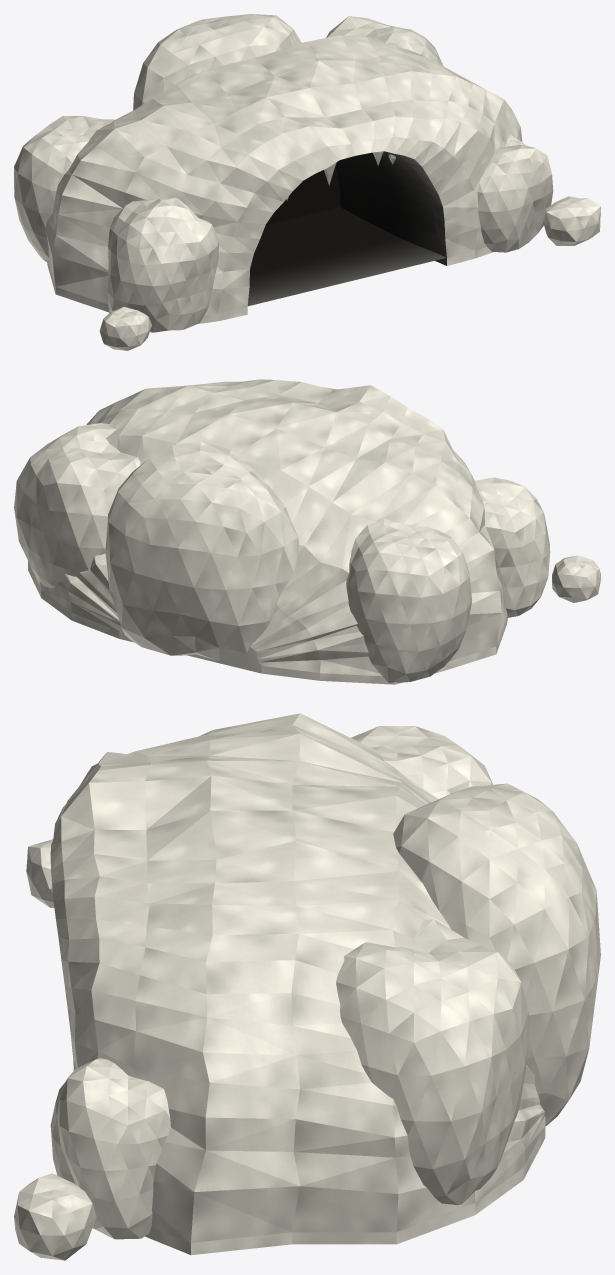
Rendered from limestone_cave.fbx.
The picture shows the model from 3 angles, top to bottom: view 1: azimuth 30°, elevation 25°; view 2: azimuth 150°, elevation 25°; view 3: azimuth 270°, elevation 25°; orthographic projection. The views are drawn at different scales.
Visible parts, largest first — view 1: limestone_cave_Rock, limestone_cave_Inside; view 2: limestone_cave_Rock; view 3: limestone_cave_Rock.
Boxes of the visible parts, box(x1,y1,x2,y2) form: limestone_cave_Rock: box(14, 14, 600, 350); limestone_cave_Inside: box(247, 151, 446, 306); limestone_cave_Rock: box(14, 379, 600, 684); limestone_cave_Rock: box(14, 713, 600, 1260).
Size of the model in its own units: 54.18 by 18.74 by 34.89.
Materials: 1 (1 with a texture image).
